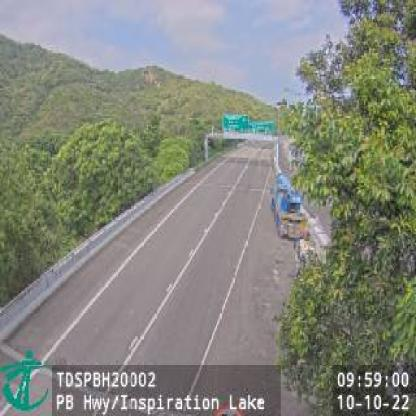Truck: (272, 175, 307, 240)
